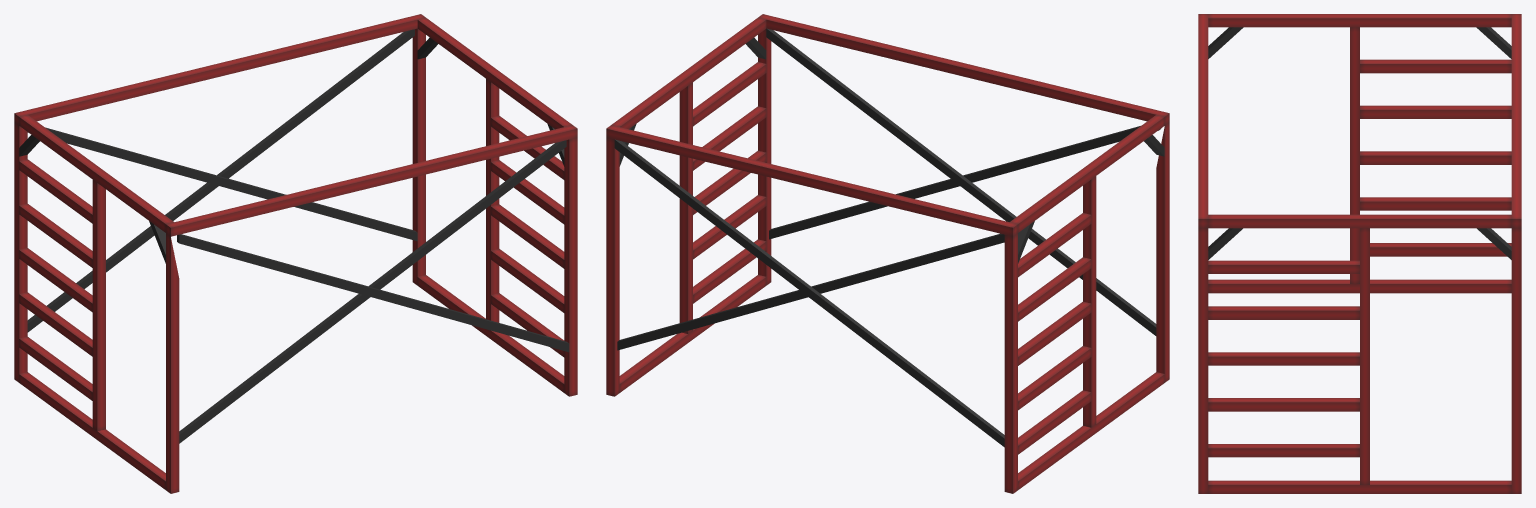
File: Scaffolding2.obj
3 views of the same model, side by side, from view 1: azimuth 30°, elevation 25°; view 2: azimuth 150°, elevation 25°; view 3: azimuth 270°, elevation 25° (orthographic). The views are drawn at different scales.
Visible parts, largest first — view 1: cuboid; view 2: cuboid; view 3: cuboid.
Part boxes in pixels (bbox=[...]): cuboid: bbox=[14, 14, 577, 493]; cuboid: bbox=[606, 14, 1169, 493]; cuboid: bbox=[1198, 14, 1521, 493].
Bounding box in the file's own units: 3 × 1.88 × 2.
1 material, 1 textured.
